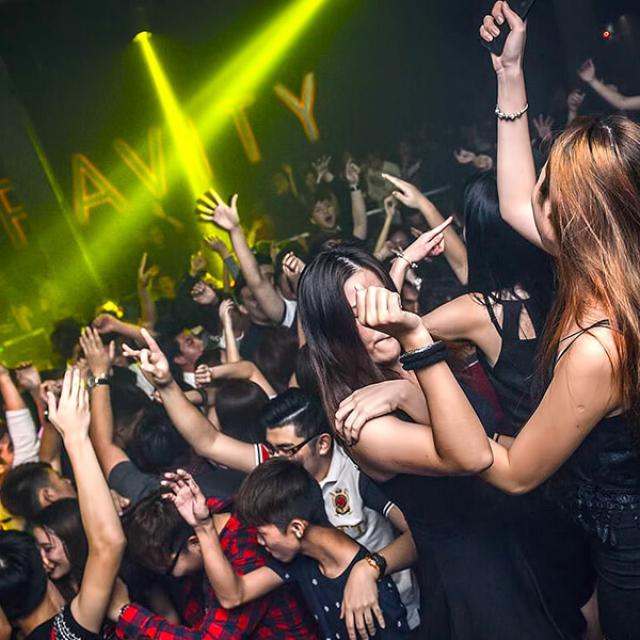body: (332, 0, 639, 639), (296, 235, 582, 639), (379, 164, 597, 638), (120, 324, 426, 640), (112, 158, 307, 517), (159, 456, 414, 640), (0, 291, 112, 640), (105, 482, 323, 640), (306, 148, 498, 321), (526, 58, 640, 178)
